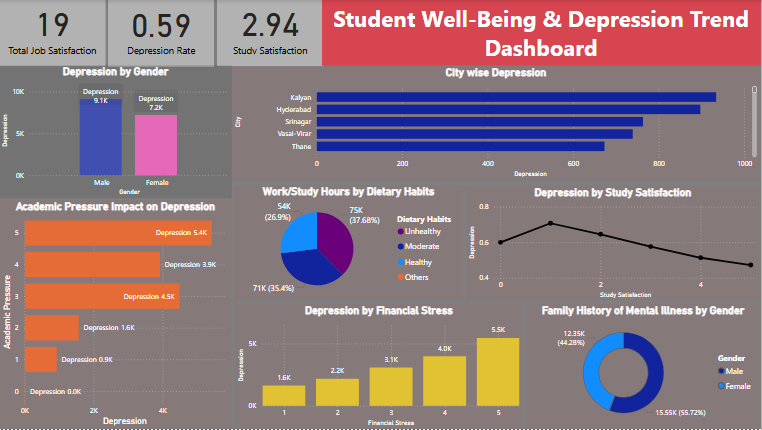

This screenshot's page, from the dashboard's own definition file:
{"tool":"powerbi","page":{"name":"Page 1","canvas":[1280,720],"ordinal":0},"visuals":[{"type":"card","fields":{"Values":["Sum(Sheet1.Job Satisfaction)"]},"box":[0,0,178.6,111.4],"z":0},{"type":"card","fields":{"Values":["Avg(Sheet1.Depression)"]},"box":[183.3,0,178.3,111.7],"z":1},{"type":"card","fields":{"Values":["Avg(Sheet1.Study Satisfaction)"]},"box":[365.7,0,178.6,111.4],"z":2},{"type":"textbox","box":[543.3,0,736.7,110],"z":3},{"type":"clusteredColumnChart","fields":{"Category":["Sheet1.Gender"],"Y":["Sum(Sheet1.Depression)"]},"box":[0,110,391.4,224.3],"z":4},{"type":"clusteredBarChart","title":"Academic Pressure Impact on Depression","fields":{"Category":["Sheet1.Academic Pressure"],"Y":["Sum(Sheet1.Depression)"]},"box":[0,335.7,391.4,384.3],"z":5},{"type":"columnChart","fields":{"Category":["Sheet1.Financial Stress"],"Y":["Sum(Sheet1.Depression)"]},"box":[396.7,510,483.3,210],"z":6},{"type":"donutChart","fields":{"Y":["CountNonNull(Sheet1.Family History of Mental Illness)"],"Category":["Sheet1.Gender"]},"box":[885,510,393.3,210],"z":7},{"type":"pieChart","fields":{"Category":["Sheet1.Dietary Habits"],"Y":["Sum(Sheet1.Work/Study Hours)"]},"box":[395,310,385,193.3],"z":8},{"type":"lineChart","fields":{"Category":["Sheet1.Study Satisfaction"],"Y":["Avg(Sheet1.Depression)"]},"box":[785,311.7,493.3,193.3],"z":9},{"type":"barChart","title":"City wise Depression","fields":{"Category":["Sheet1.City"],"Y":["Sum(Sheet1.Depression)"]},"box":[391.7,111.7,886.7,191.7],"z":10}]}

Visuals, with their boxes in screenshot pixels (x1, y1, x2, y2), scaled from the page's 1280x720 canvas onto the 762x430 screenshot:
card - Sum(Sheet1.Job Satisfaction): x1=0, y1=0, x2=106, y2=67
card - Avg(Sheet1.Depression): x1=109, y1=0, x2=215, y2=67
card - Avg(Sheet1.Study Satisfaction): x1=218, y1=0, x2=324, y2=67
textbox: x1=323, y1=0, x2=761, y2=66
clusteredColumnChart - Sheet1.Gender x Sum(Sheet1.Depression): x1=0, y1=66, x2=233, y2=200
"Academic Pressure Impact on Depression" clusteredBarChart: x1=0, y1=200, x2=233, y2=429
columnChart - Sheet1.Financial Stress x Sum(Sheet1.Depression): x1=236, y1=305, x2=524, y2=429
donutChart - CountNonNull(Sheet1.Family History of Mental Illness) x Sheet1.Gender: x1=527, y1=305, x2=761, y2=429
pieChart - Sheet1.Dietary Habits x Sum(Sheet1.Work/Study Hours): x1=235, y1=185, x2=464, y2=301
lineChart - Sheet1.Study Satisfaction x Avg(Sheet1.Depression): x1=467, y1=186, x2=761, y2=302
"City wise Depression" barChart: x1=233, y1=67, x2=761, y2=181
